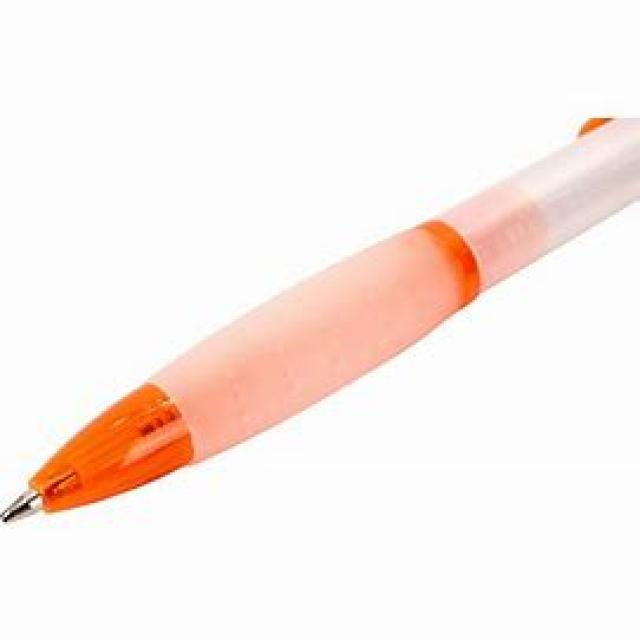pen: (2, 113, 640, 529)
